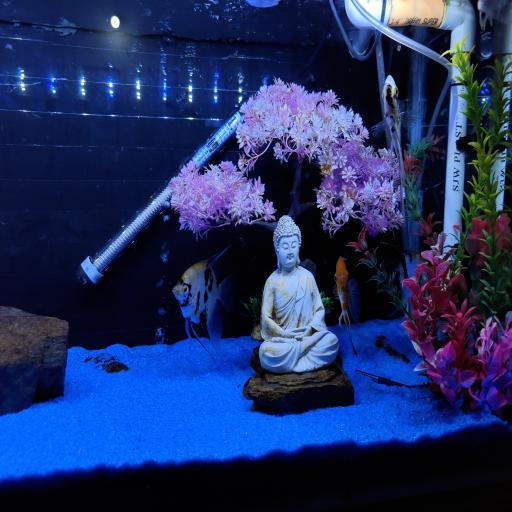Fish: (372, 75, 417, 235), (173, 248, 235, 360), (334, 257, 360, 356), (246, 0, 279, 8)
